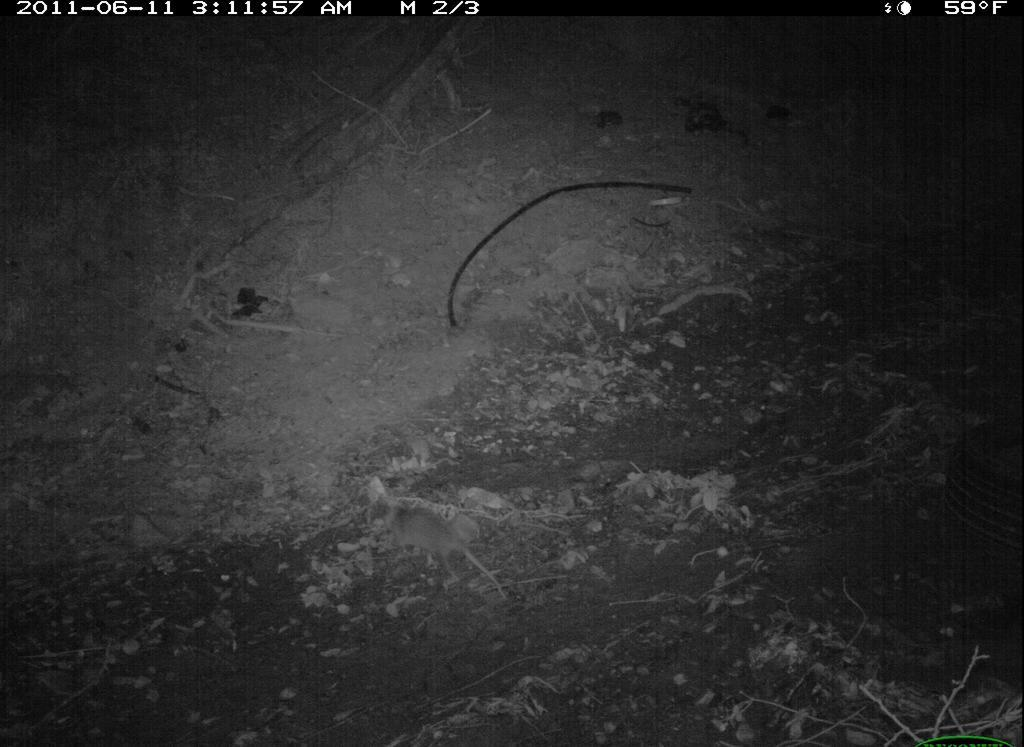opossum: (361, 483, 523, 612)
